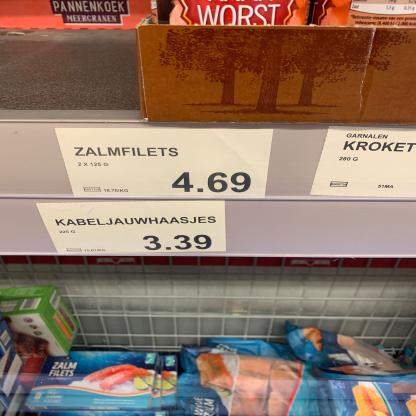prtg: (56, 129, 273, 201), (38, 201, 227, 257), (310, 126, 416, 199)
